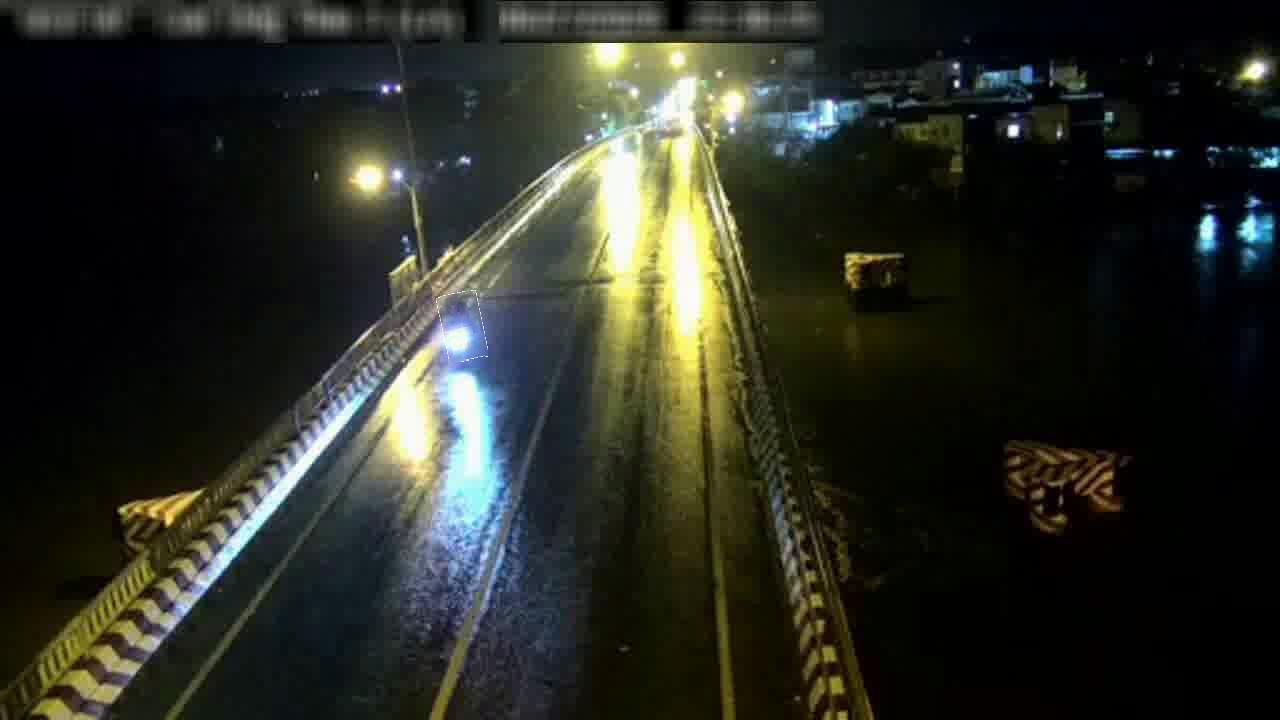motorbike: (440, 292, 486, 362)
